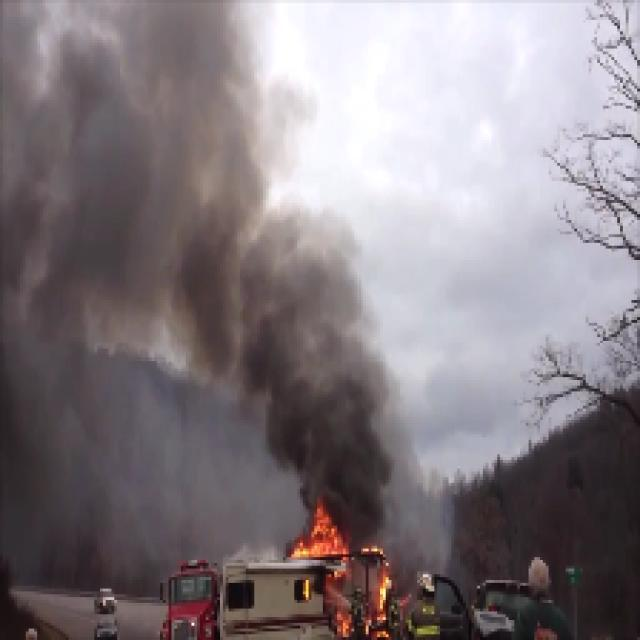Fire: (290, 505, 348, 562)
Smoke: (5, 1, 246, 538), (250, 101, 346, 478), (353, 344, 413, 532)
